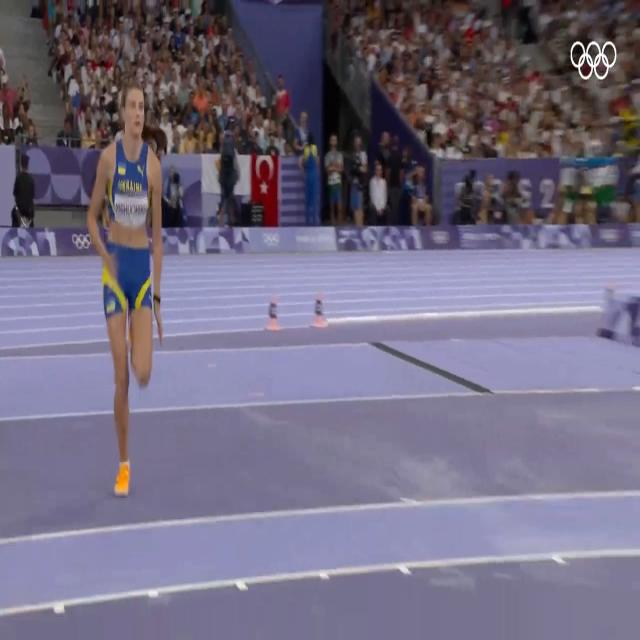run: (87, 82, 166, 500)
